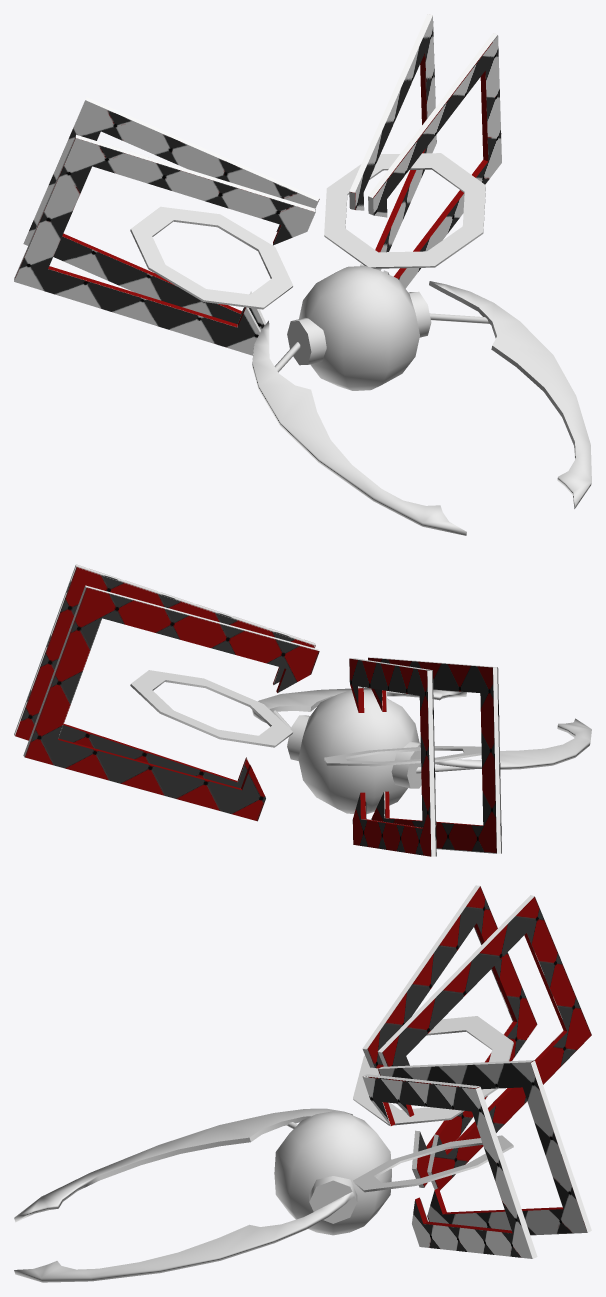
The model's file is Enemy B_02.fbx.
The picture shows the model from 3 angles, top to bottom: view 1: azimuth 30°, elevation 25°; view 2: azimuth 150°, elevation 25°; view 3: azimuth 270°, elevation 25°; orthographic projection.
Parts seen in each view (by area): view 1: WingRight, WingLeft, Eyeball, Hand_Right, Hand_Left, Wing_Left, Wing_Right; view 2: WingLeft, WingRight, Eyeball, Wing_Left, Hand_Right, Hand_Left, Wing_Right; view 3: WingRight, WingLeft, Eyeball, Hand_Left, Hand_Right, Wing_Right, Wing_Left.
Boxes of the visible parts, x1=… form: WingRight: x1=14, y1=97, x2=319, y2=355; WingLeft: x1=349, y1=14, x2=501, y2=288; Eyeball: x1=299, y1=266, x2=419, y2=390; Hand_Right: x1=252, y1=317, x2=466, y2=535; Hand_Left: x1=408, y1=281, x2=591, y2=508; Wing_Left: x1=324, y1=153, x2=485, y2=268; Wing_Right: x1=130, y1=206, x2=293, y2=309; WingLeft: x1=14, y1=564, x2=319, y2=821; WingRight: x1=349, y1=657, x2=501, y2=856; Eyeball: x1=298, y1=690, x2=419, y2=814; Wing_Left: x1=130, y1=670, x2=293, y2=747; Hand_Right: x1=391, y1=718, x2=591, y2=788; Hand_Left: x1=252, y1=688, x2=466, y2=760; Wing_Right: x1=324, y1=746, x2=481, y2=766; WingRight: x1=362, y1=885, x2=591, y2=1190; WingLeft: x1=362, y1=1060, x2=591, y2=1258; Eyeball: x1=274, y1=1111, x2=391, y2=1235; Hand_Left: x1=14, y1=1176, x2=357, y2=1282; Hand_Right: x1=14, y1=1108, x2=352, y2=1222; Wing_Right: x1=353, y1=1016, x2=513, y2=1125; Wing_Left: x1=353, y1=1135, x2=513, y2=1192.
Bounding box in the file's own units: 186 × 100 × 194.
4 materials, 2 textured.
